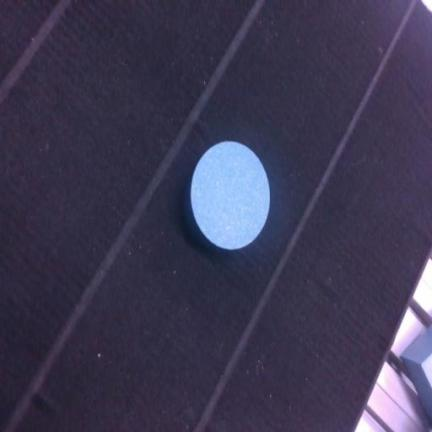cylinder: (191, 141, 269, 249)
